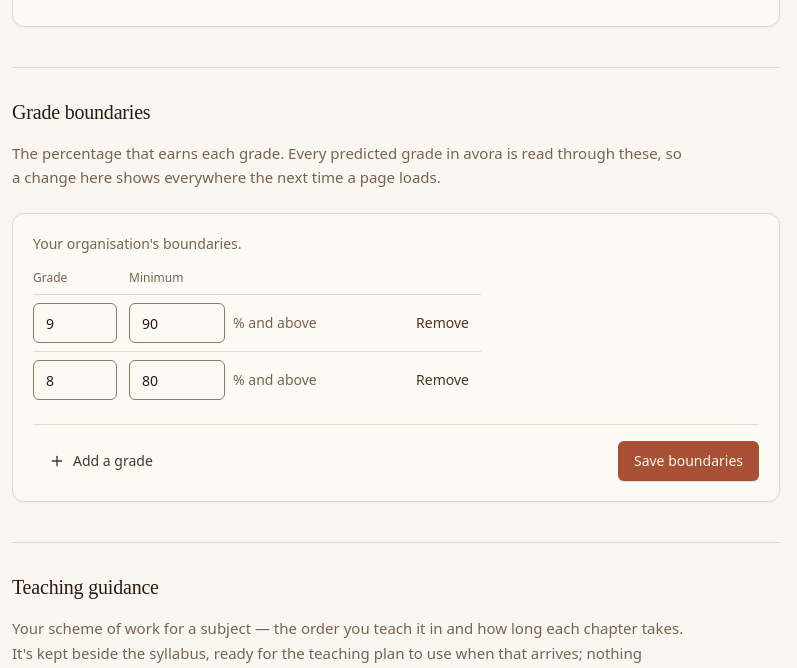
an unsaved draft is not carried from one subject to the next
This screenshot has width=797, height=668.
(page scrolled)
Replace the text in the number field named "Minimum percentage for grade 9" with "55". click: (177, 323)
box: [129,303,225,343]
(page scrolled)
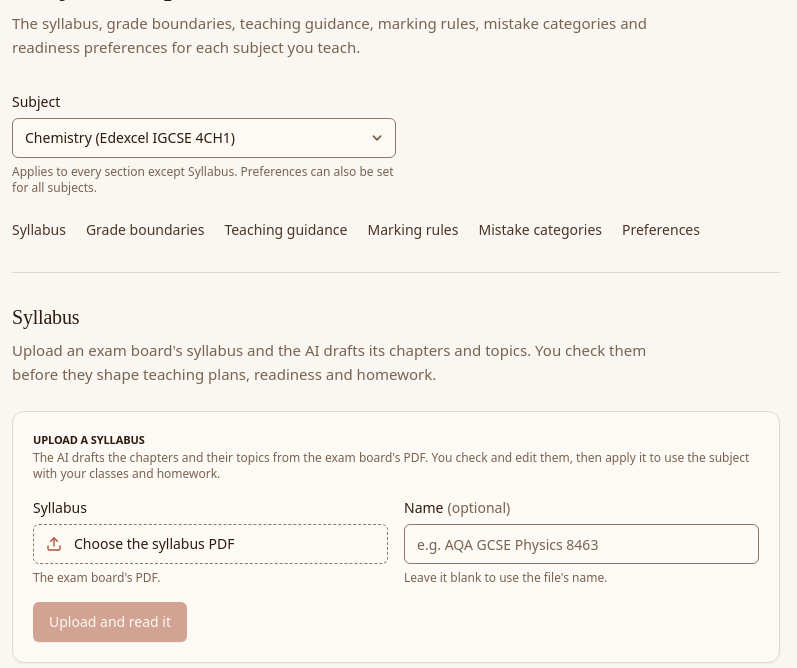
Select "Physics (Edexcel IGCSE 4PH1)" in the dropdown labelled "Subject". click: (204, 138)
box: [12,118,396,158]
(page scrolled)
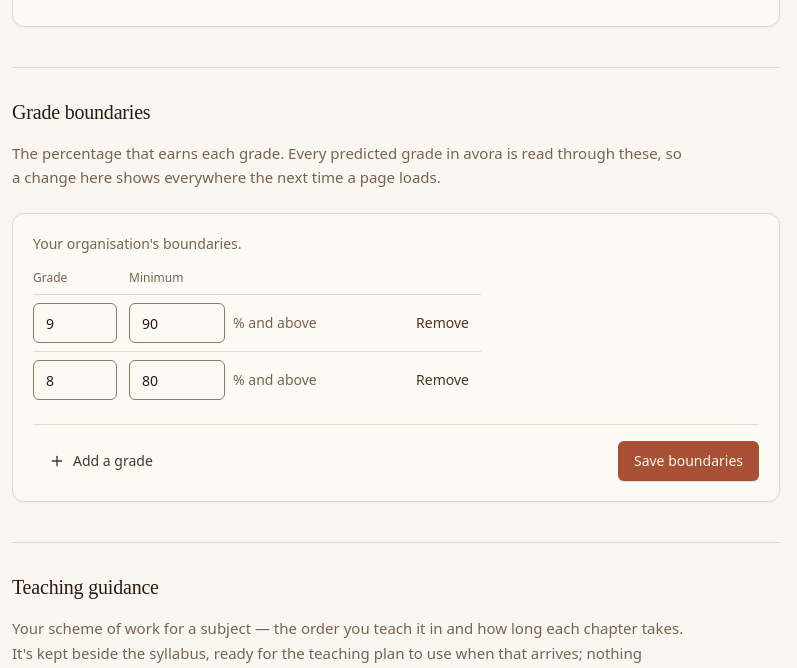
Check: the number field named "Minimum percentage for grade 9" holds "90", box [129,303,225,343]
